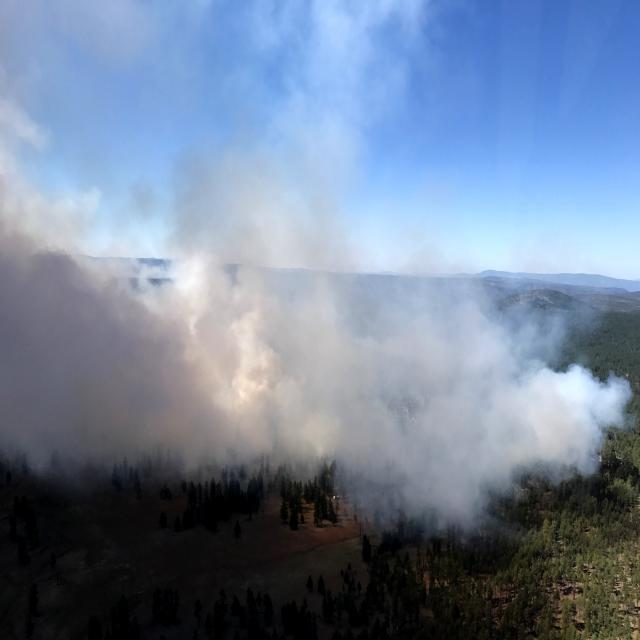Smoke: (0, 134, 621, 526)
